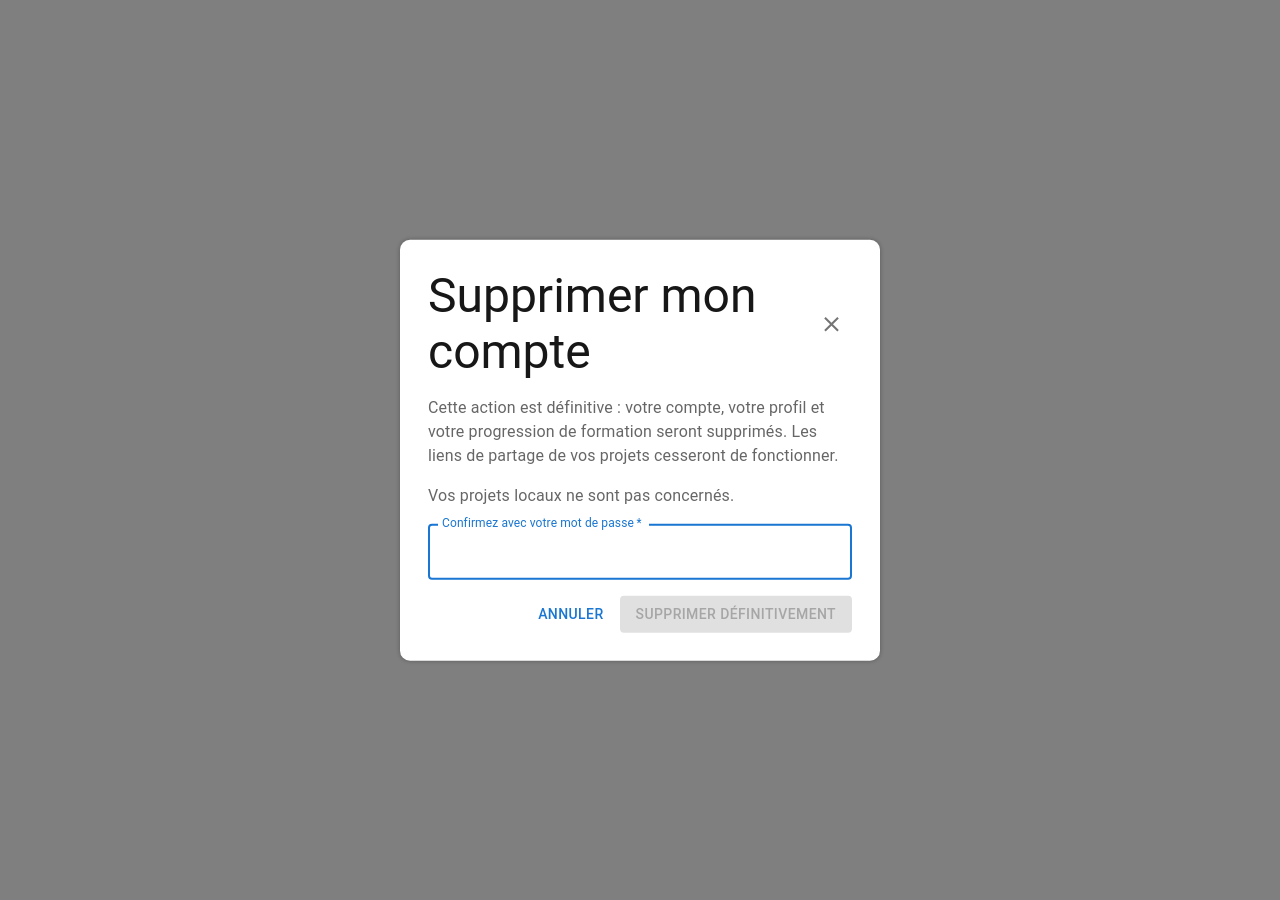
it: DeleteAccountModal › disables the confirm button until a password is typed
expect the button "Supprimer définitivement" is disabled: met, box [620,596,852,632]
Type "secret" into the password field labelled "Confirmez avec votre mot de passe *" at (640, 552), box [428,524,852,580]
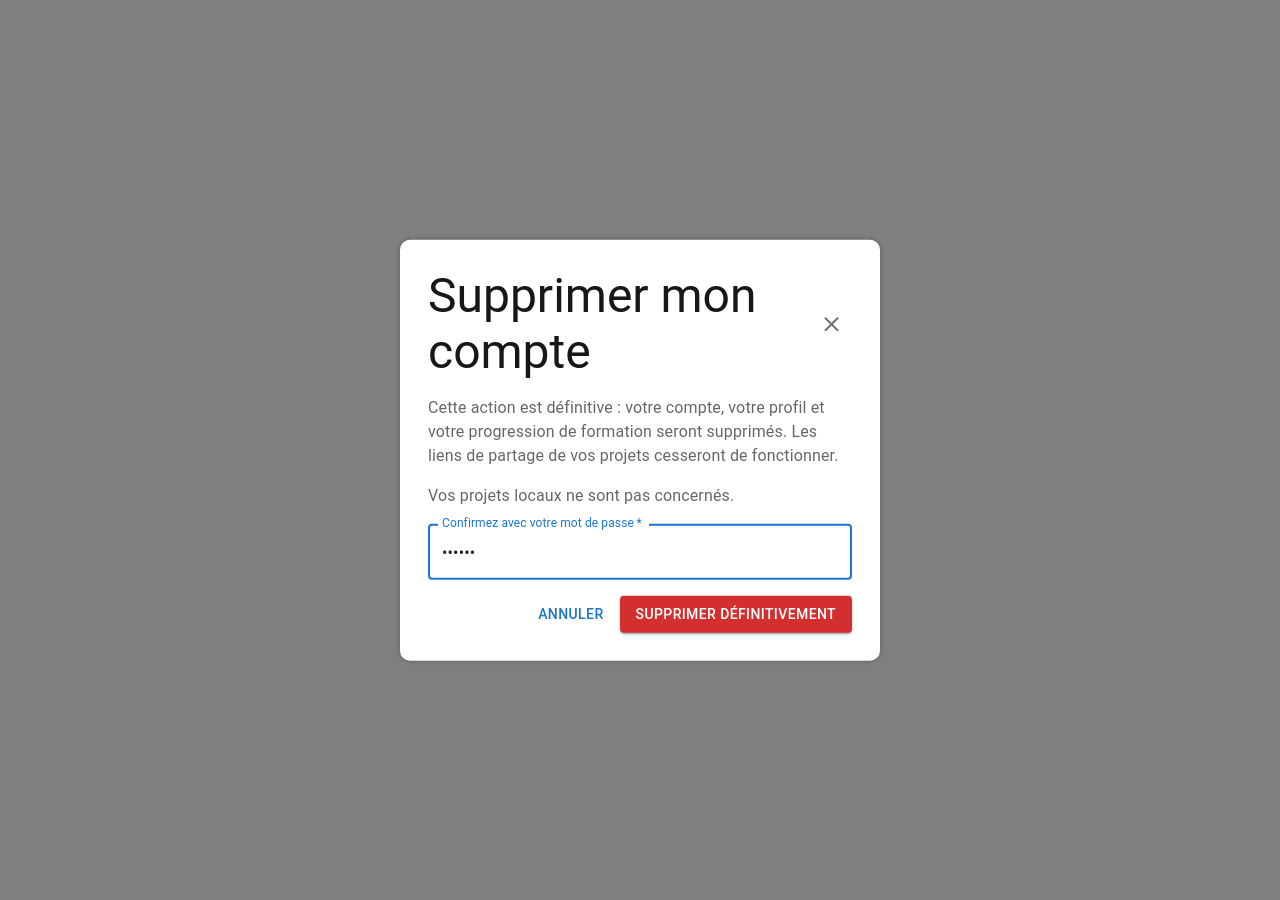
expect the button "Supprimer définitivement" is enabled: met, box [620,596,852,632]
